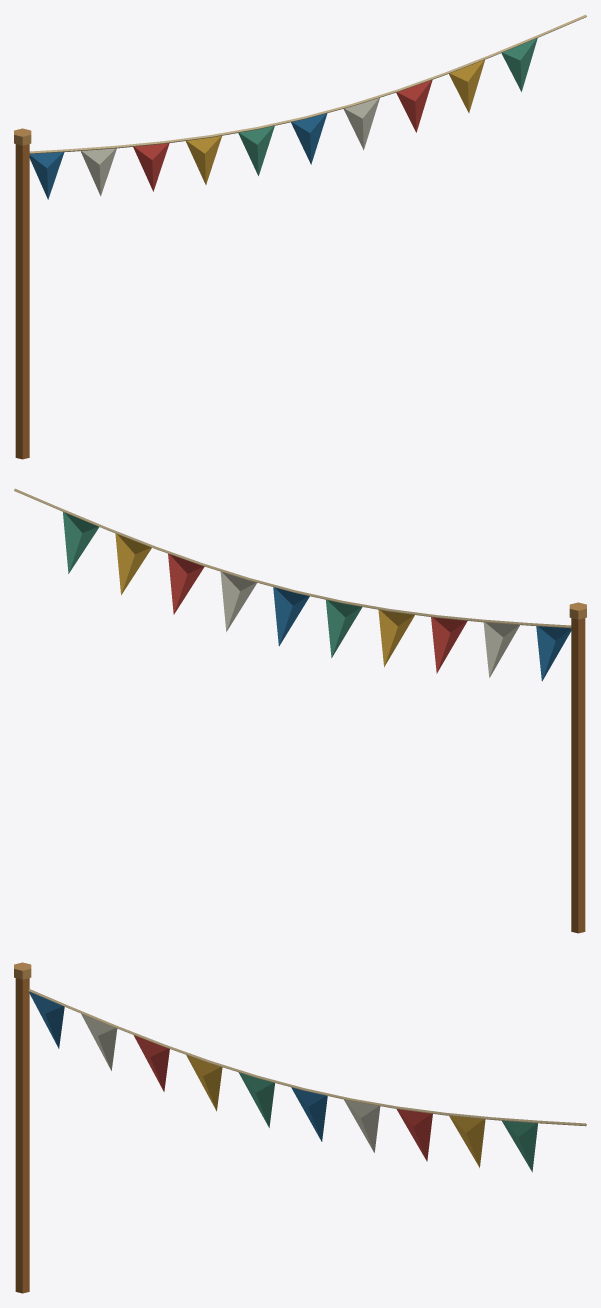
File: bunting_span_6m.glb
3 views of the same model, one above another, from view 1: azimuth 30°, elevation 25°; view 2: azimuth 150°, elevation 25°; view 3: azimuth 330°, elevation 25° (orthographic).
Visible parts, largest first — view 1: bunting_span_6m__pc; view 2: bunting_span_6m__pc; view 3: bunting_span_6m__pc.
Part boxes in pixels (x1,y1,x2,y2): bunting_span_6m__pc: (14, 14, 586, 459); bunting_span_6m__pc: (14, 488, 586, 933); bunting_span_6m__pc: (14, 962, 586, 1293).
Bounding box in the file's own units: 6.09 × 3.29 × 0.1797.
